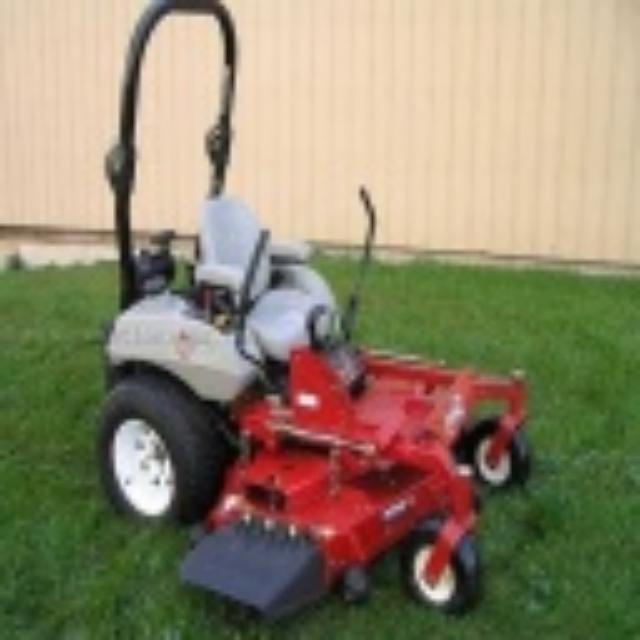Rotary-Mower: (90, 0, 534, 620)
